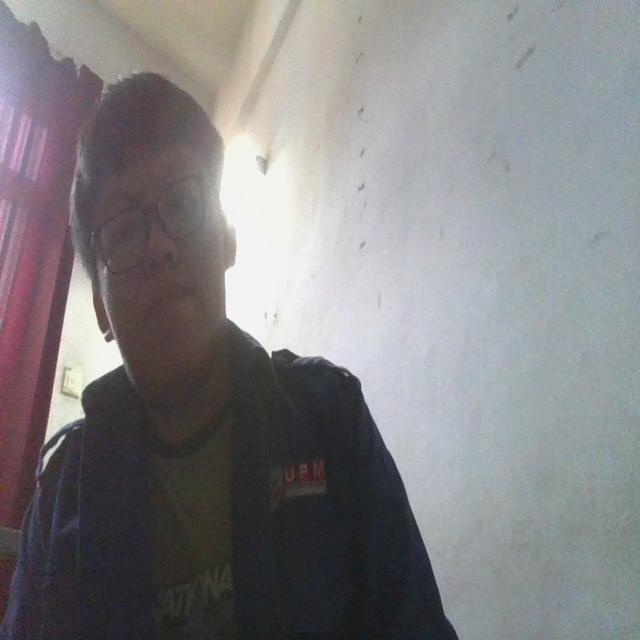person_with_labcoat: (0, 72, 456, 639)
